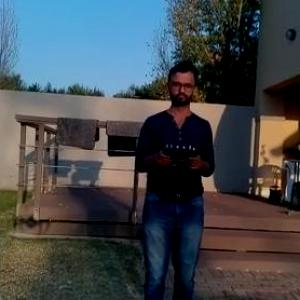follow: (127, 53, 218, 299)
